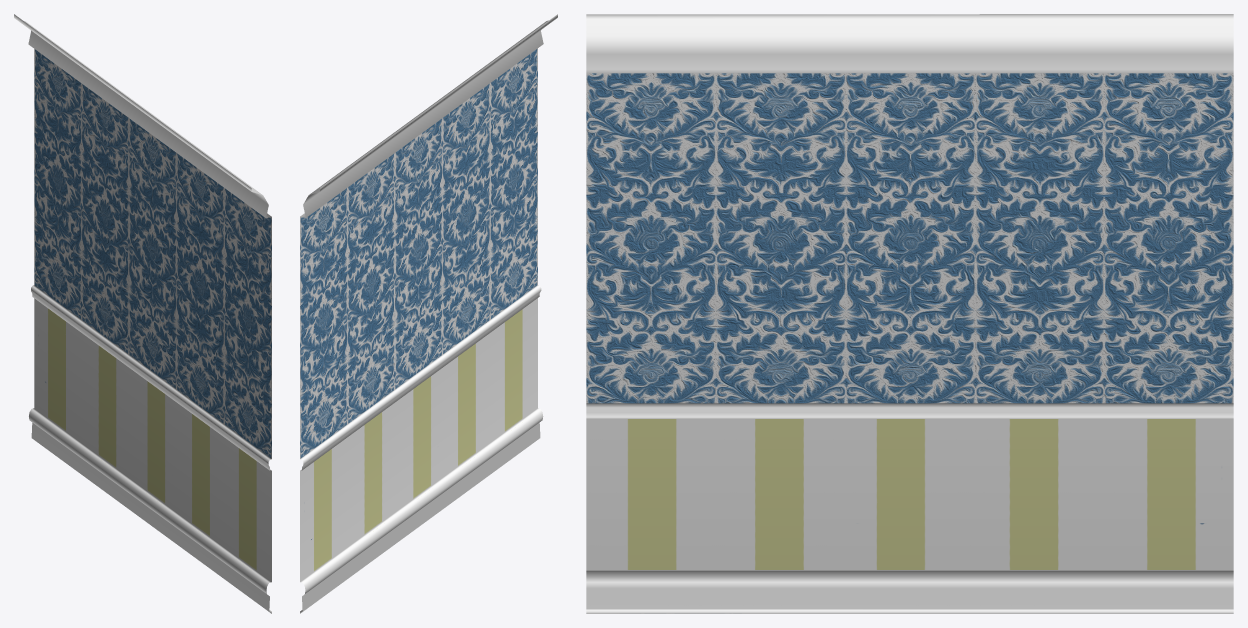
File: EN_Wall_01.fbx
3 views of the same model, side by side, from view 1: azimuth 30°, elevation 25°; view 2: azimuth 150°, elevation 25°; view 3: azimuth 270°, elevation 25° (orthographic). The views are drawn at different scales.
Visible parts, largest first — view 1: pPlane1; view 2: pPlane1; view 3: pPlane1.
Part boxes in pixels (x1,y1,x2,y2): pPlane1: [14, 14, 271, 613]; pPlane1: [300, 14, 557, 613]; pPlane1: [586, 14, 1233, 613].
Bounding box in the file's own units: 0.244 × 5 × 5.
